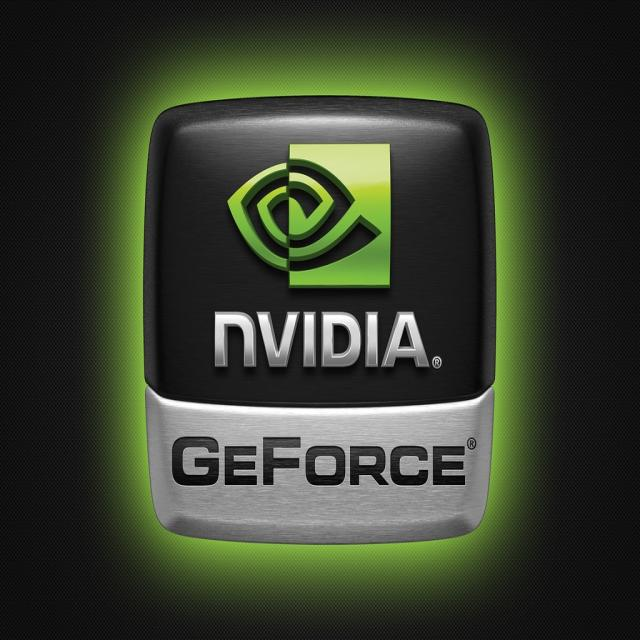nvidia: (226, 143, 392, 287)
